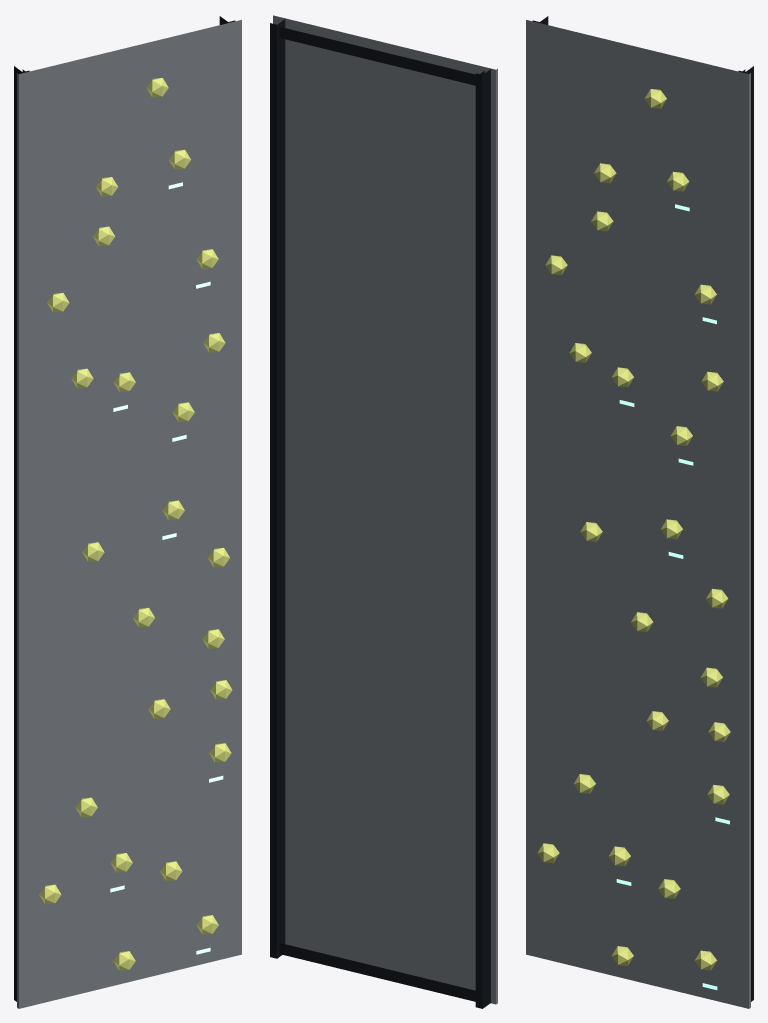
Rendered from tt_climbing_panel_kids.glb.
The picture shows the model from 3 angles, left to right: view 1: azimuth 30°, elevation 25°; view 2: azimuth 150°, elevation 25°; view 3: azimuth 330°, elevation 25°; orthographic projection.
Parts seen in each view (by area): view 1: Face_Sheet, Holds, Sub_Frame; view 2: Face_Sheet, Sub_Frame; view 3: Face_Sheet, Holds, Sub_Frame, Route_Tape.
Boxes of the visible parts, x1=… form: Face_Sheet: x1=17, y1=20, x2=241, y2=1008; Holds: x1=39, y1=78, x2=232, y2=970; Sub_Frame: x1=14, y1=16, x2=235, y2=1001; Face_Sheet: x1=273, y1=15, x2=497, y2=1004; Sub_Frame: x1=270, y1=19, x2=490, y2=1008; Face_Sheet: x1=526, y1=20, x2=750, y2=1008; Holds: x1=537, y1=89, x2=730, y2=970; Sub_Frame: x1=532, y1=16, x2=753, y2=1001; Route_Tape: x1=616, y1=204, x2=729, y2=989.
Size of what is drawn, in the model's own units: 1.25 by 5 by 0.1876.
4 materials, 1 textured.
